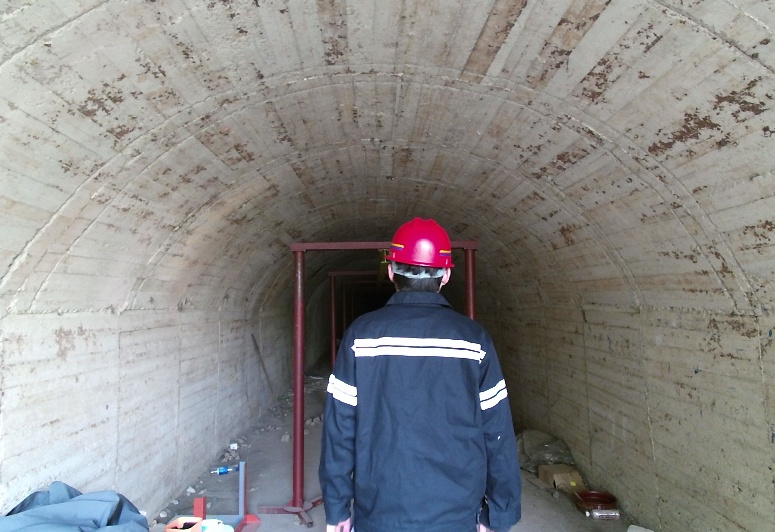person: (316, 214, 549, 532)
